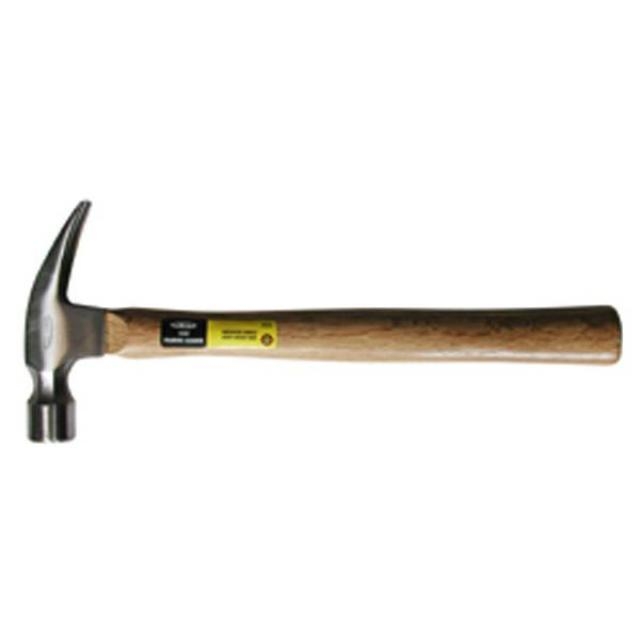hammer: (7, 185, 638, 458)
